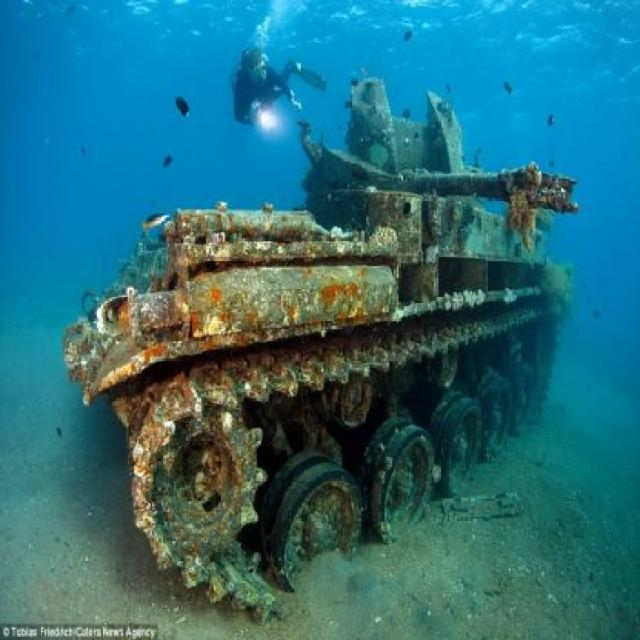corrosion: (62, 90, 582, 618)
